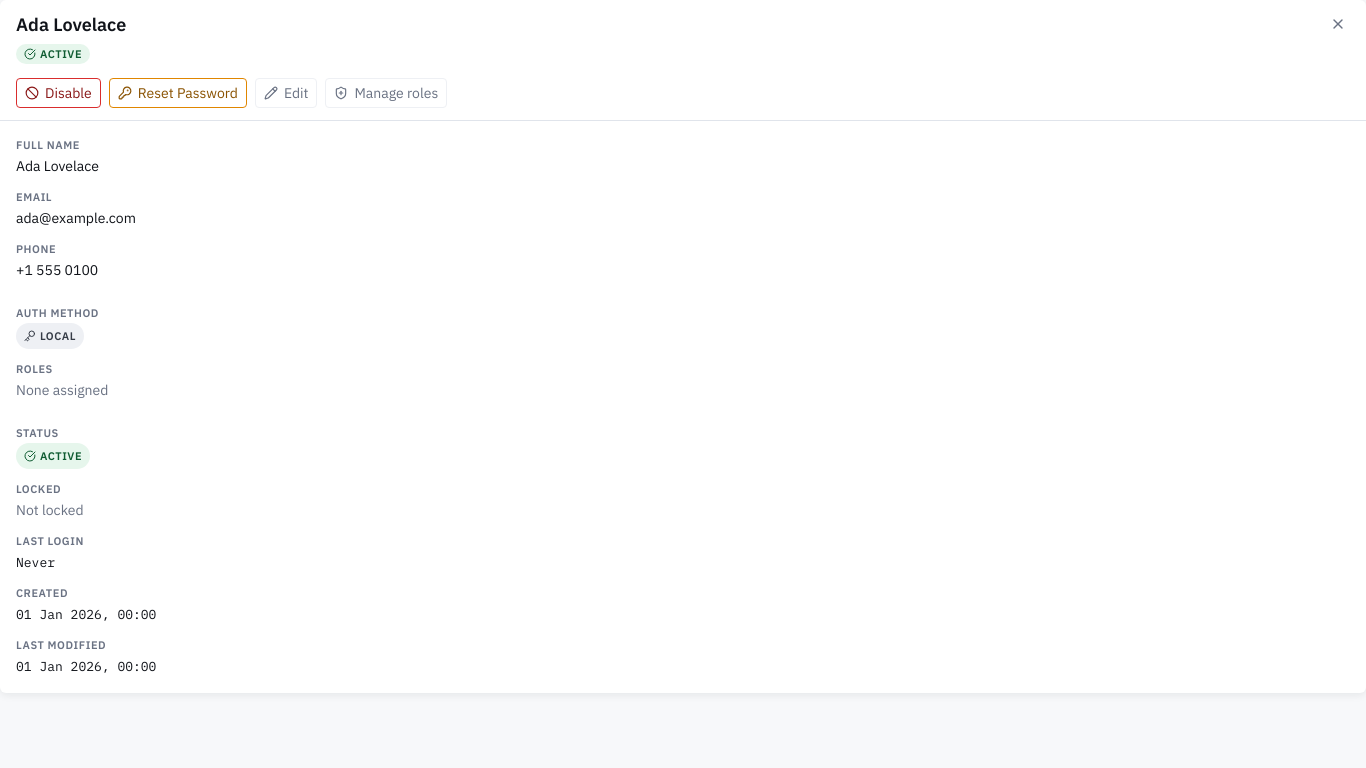
Test: UserDetail manageRoles mode › does not render the Manage roles button while in edit mode
Step 1. Click the button "Edit" → {"x": 286, "y": 93}, box [255, 78, 318, 108]
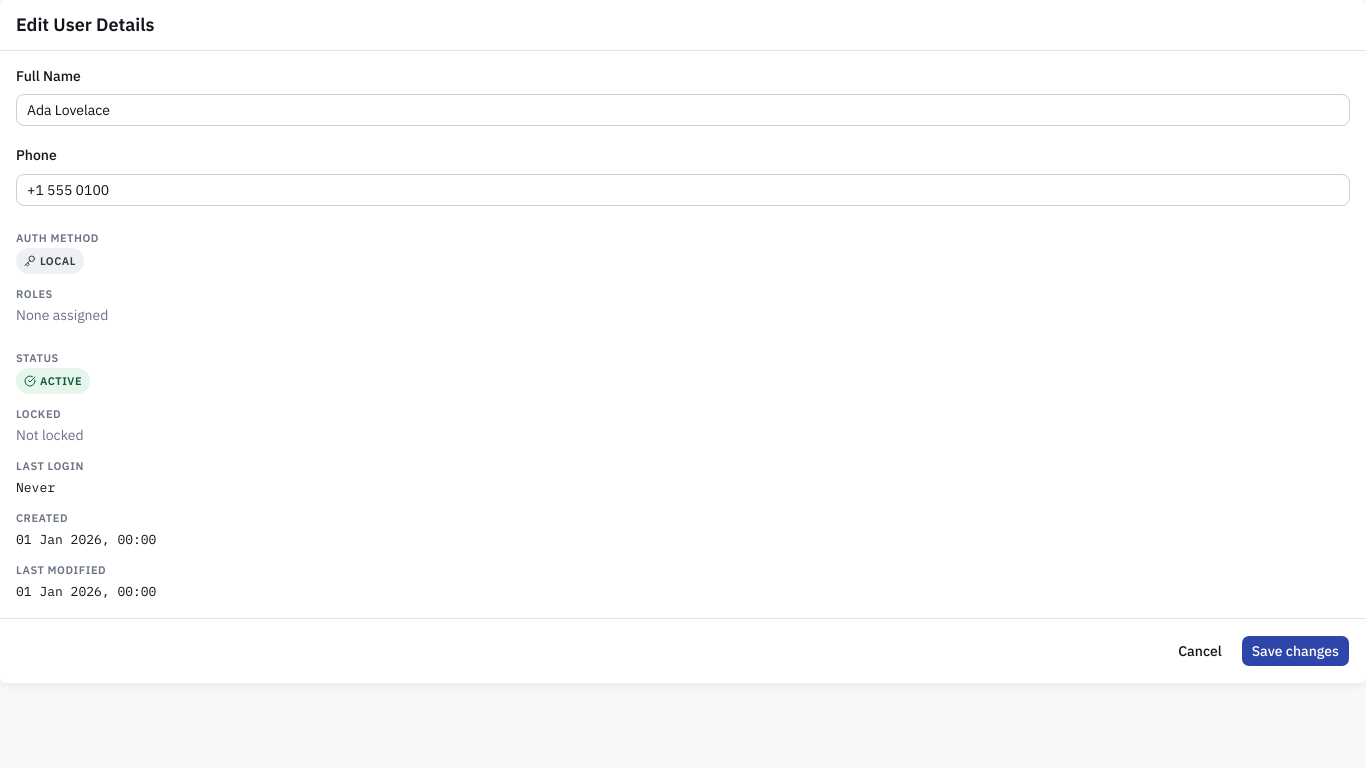
expect the button "Manage roles" is gone: met
